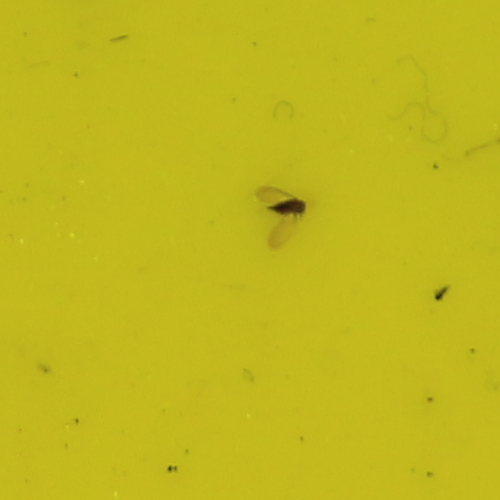psylla: (267, 197, 309, 219)
